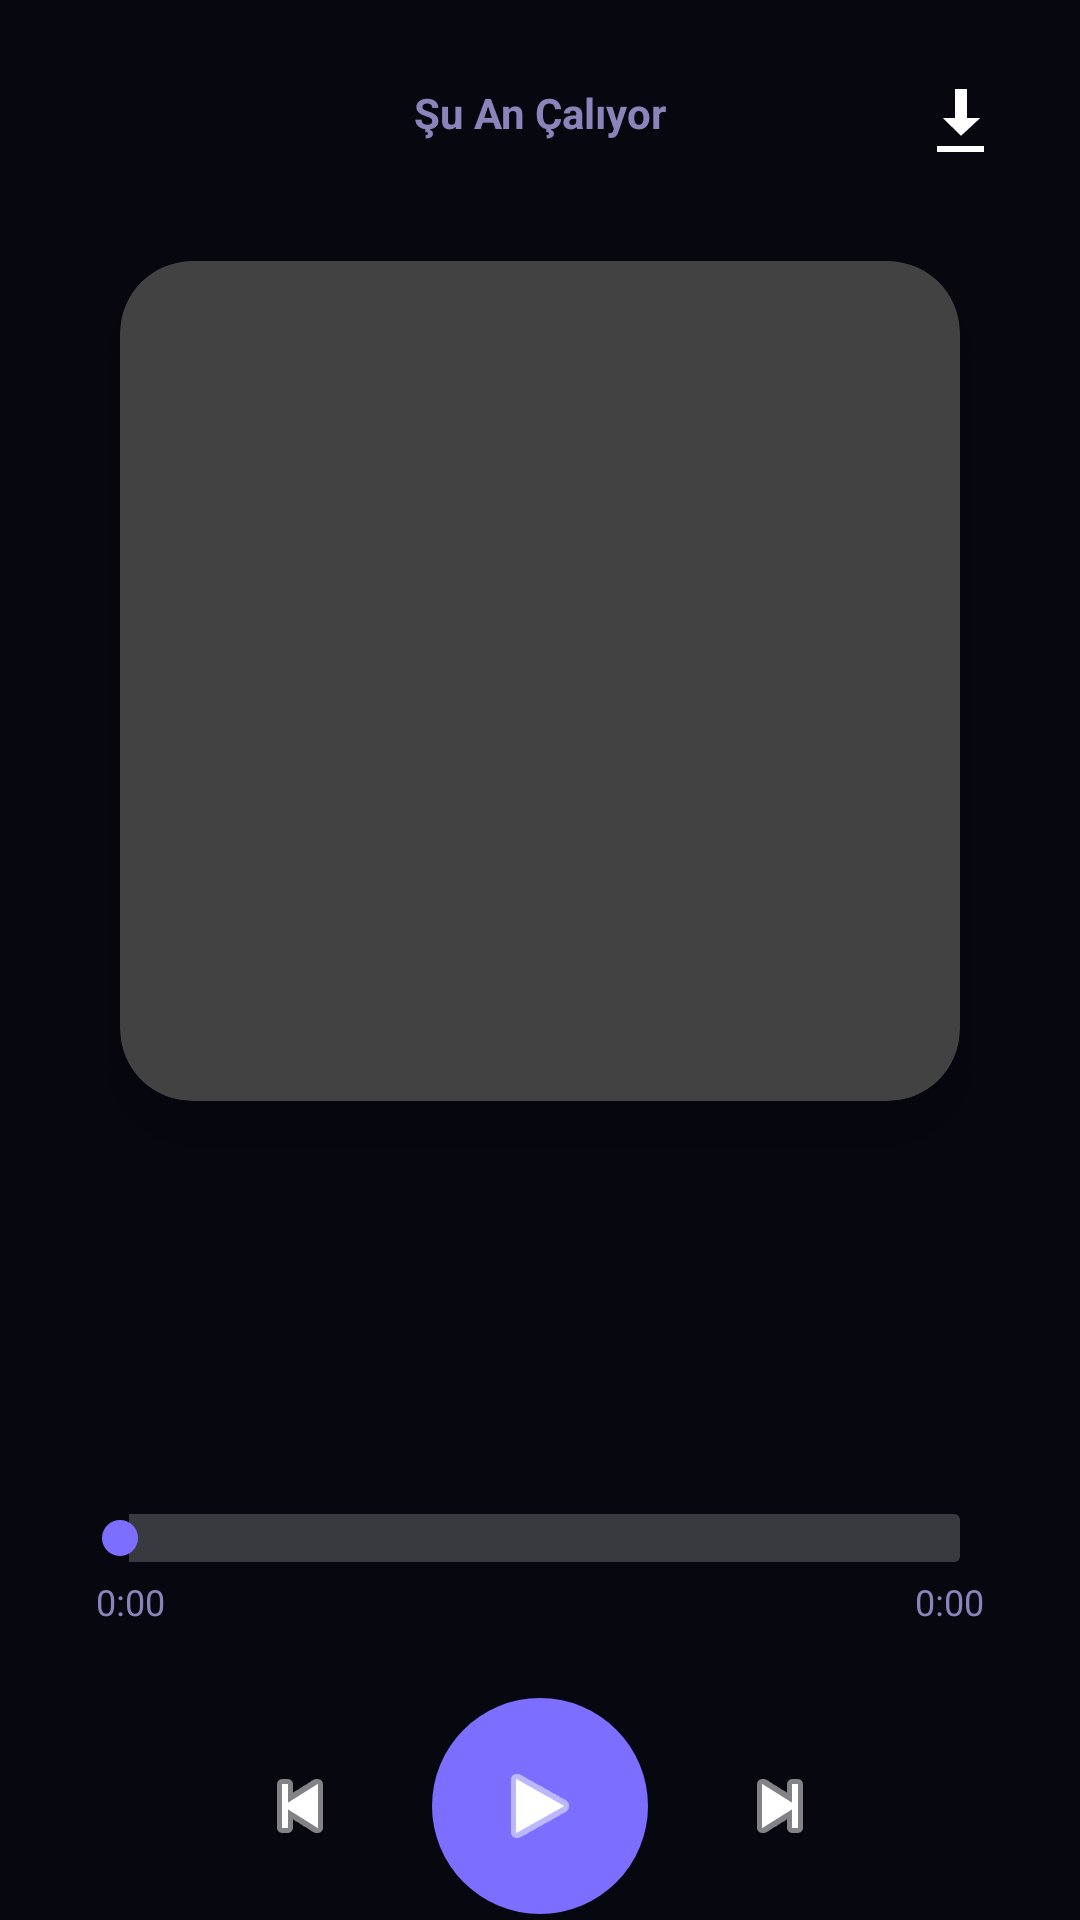

Named icons in this screenshot (1080px x 1920px) and their centers, [x,y]:
İndir: [960,120]
Oynat: [540,1806]
Sonraki: [780,1806]
Önceki: [300,1806]
